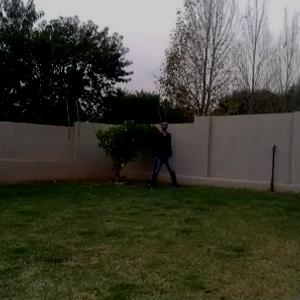follow: (153, 117, 171, 190)
